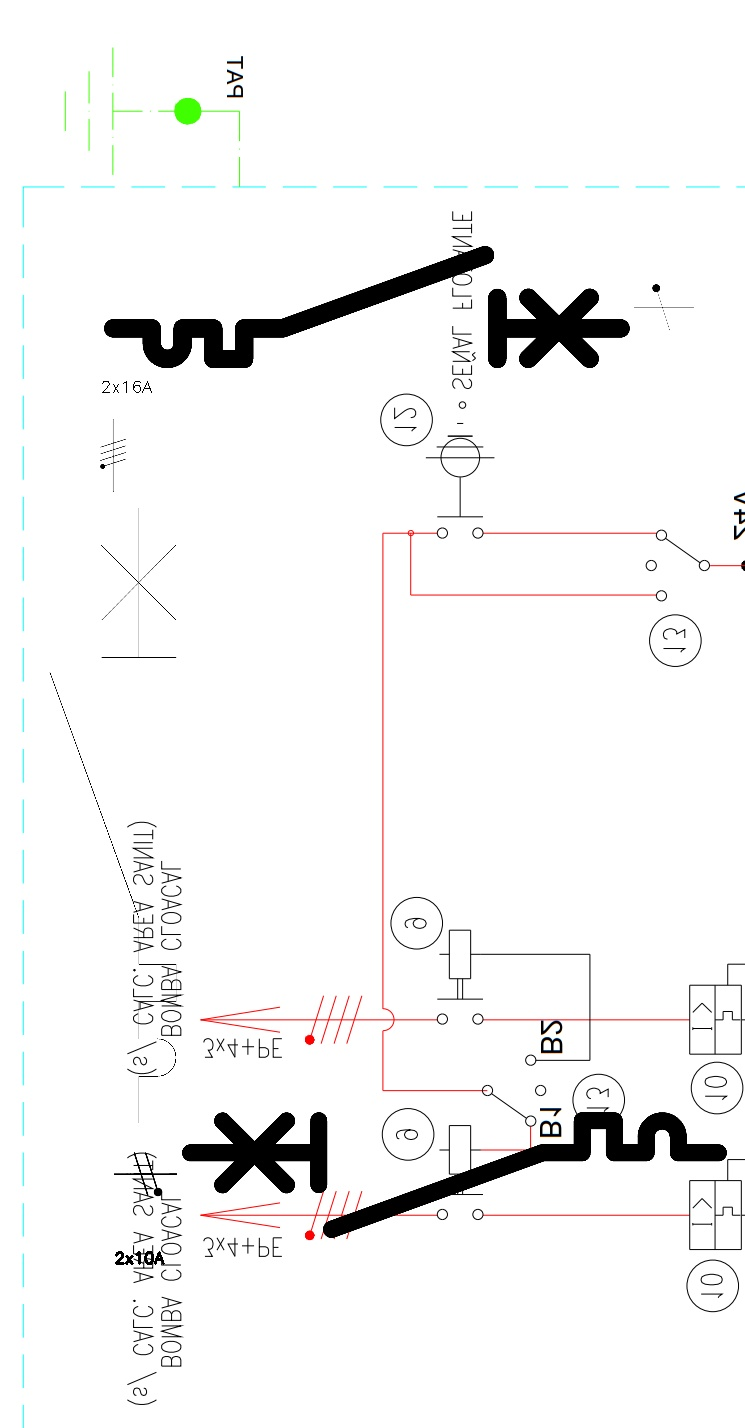interruptor_termomagnetico: (34, 492, 192, 1139), (176, 1107, 731, 1243), (100, 242, 633, 372)
